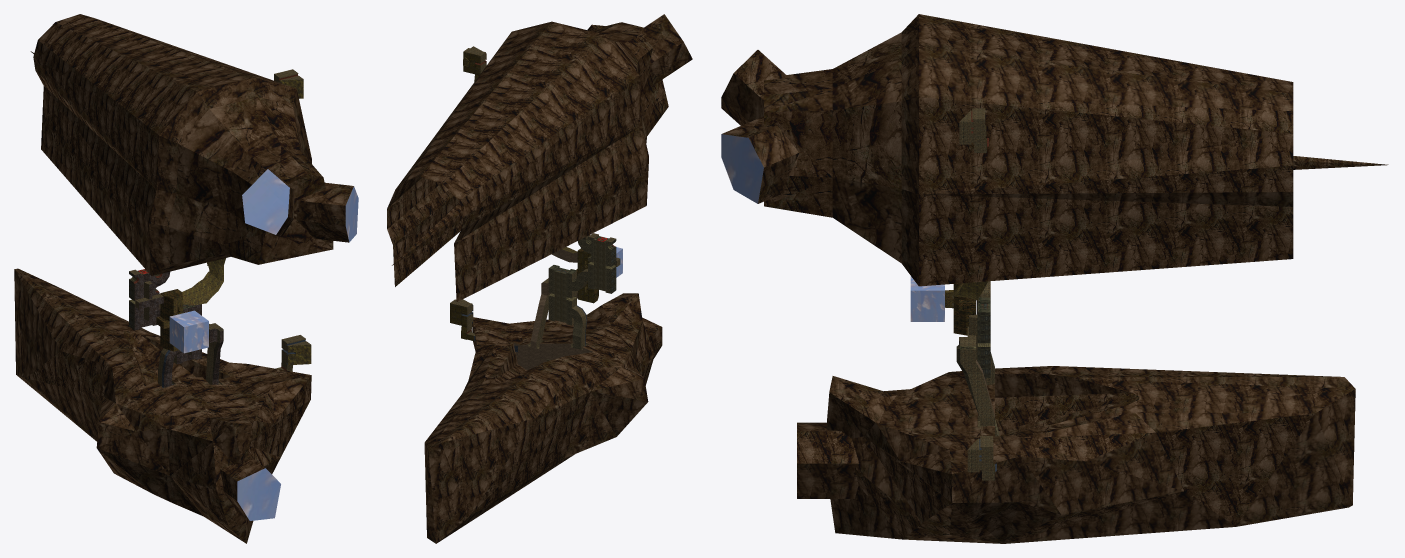
The model's file is CTF-EndlessCavern.obj.
3 renders of one model, left to right at view 1: azimuth 30°, elevation 25°; view 2: azimuth 150°, elevation 25°; view 3: azimuth 270°, elevation 25°, orthographic. The views are drawn at different scales.
Parts seen in each view (by area): view 1: UTtech1_Misc_rok2, genfluid_Sky_pSky2, UT_crumbf1, Ancient_Base_BASIC2, Ancient_Wall_BRIXK3, Ancient_Wall_Basic2-v2; view 2: UTtech1_Misc_rok2, GenEarth_Ground_Dirt1, Ancient_Wall_BRIXK3, Ancient_Floor_az-floor, Ancient_Floor_FLOOR2B, Ancient_Floor_FLOOR1, Ancient_Floor_FLOOR2; view 3: UTtech1_Misc_rok2, Ancient_Wall_BRIXK3, genfluid_Sky_pSky2, Ancient_Deco_A_stt2a.
Boxes of the visible parts, x1,y1,x2,y2 form: UTtech1_Misc_rok2: (14, 14, 353, 543); genfluid_Sky_pSky2: (169, 169, 358, 520); UT_crumbf1: (134, 271, 223, 387); Ancient_Base_BASIC2: (182, 79, 311, 365); Ancient_Wall_BRIXK3: (129, 69, 310, 388); Ancient_Wall_Basic2-v2: (156, 289, 182, 351); UTtech1_Misc_rok2: (387, 14, 692, 543); GenEarth_Ground_Dirt1: (514, 249, 593, 370); Ancient_Wall_BRIXK3: (450, 46, 620, 349); Ancient_Floor_az-floor: (450, 51, 593, 340); Ancient_Floor_FLOOR2B: (548, 237, 611, 325); Ancient_Floor_FLOOR1: (546, 240, 605, 361); Ancient_Floor_FLOOR2: (572, 237, 587, 349); UTtech1_Misc_rok2: (721, 14, 1388, 543); Ancient_Wall_BRIXK3: (959, 108, 998, 480); genfluid_Sky_pSky2: (721, 134, 944, 321); Ancient_Deco_A_stt2a: (977, 312, 990, 377).
Size of the model in its own units: 81.08 by 161 by 190.
